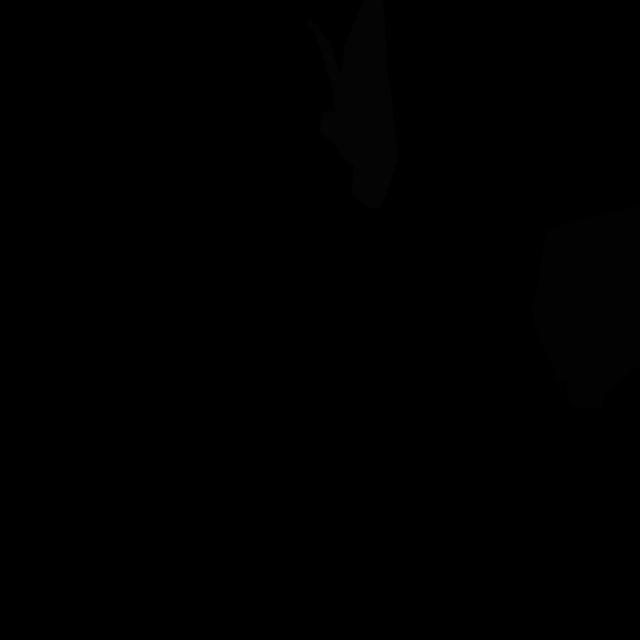cardboard: (532, 205, 640, 410)
soft_plastic: (307, 0, 398, 208)
